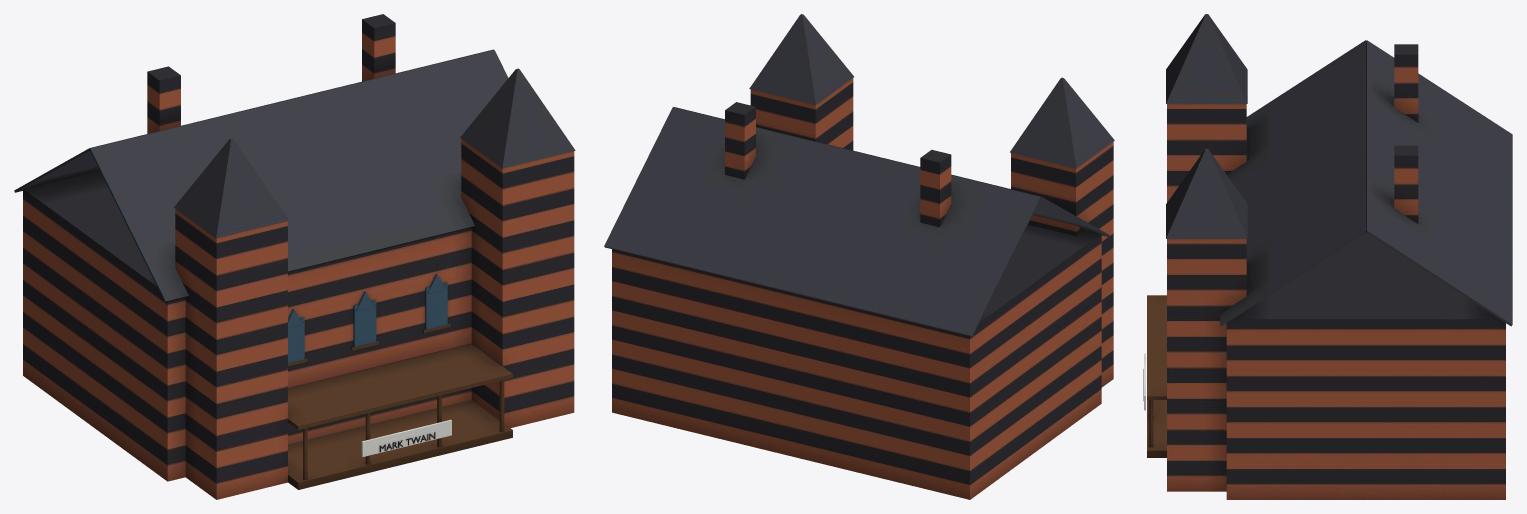
Rendered from casa_mark_twain.glb.
The picture shows the model from 3 angles, left to right: view 1: azimuth 30°, elevation 25°; view 2: azimuth 150°, elevation 25°; view 3: azimuth 270°, elevation 25°; orthographic projection. The views are drawn at different scales.
Visible parts, largest first — view 1: casa_mark_twain; view 2: casa_mark_twain; view 3: casa_mark_twain.
Boxes of the visible parts, bbox=[...] form: casa_mark_twain: bbox=[14, 14, 575, 499]; casa_mark_twain: bbox=[604, 14, 1114, 499]; casa_mark_twain: bbox=[1143, 14, 1512, 499].
Bounding box in the file's own units: 22.6 × 18 × 18.51.
Materials: 1 (1 with a texture image).
